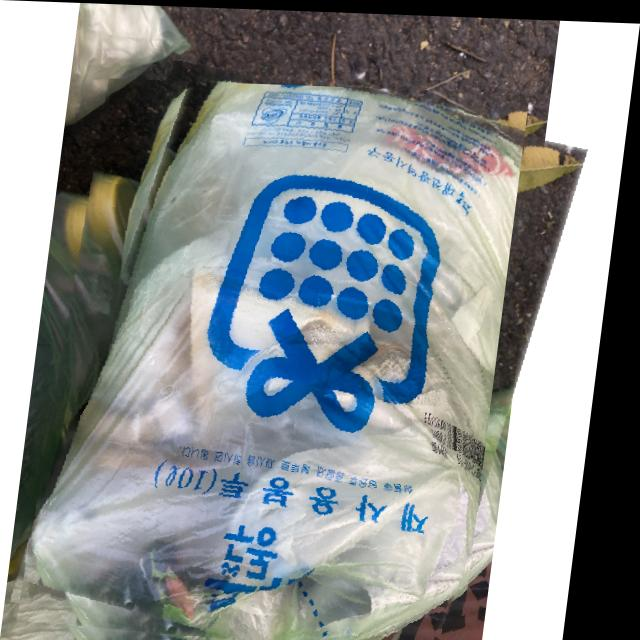general_trashbag: (44, 81, 526, 640)
